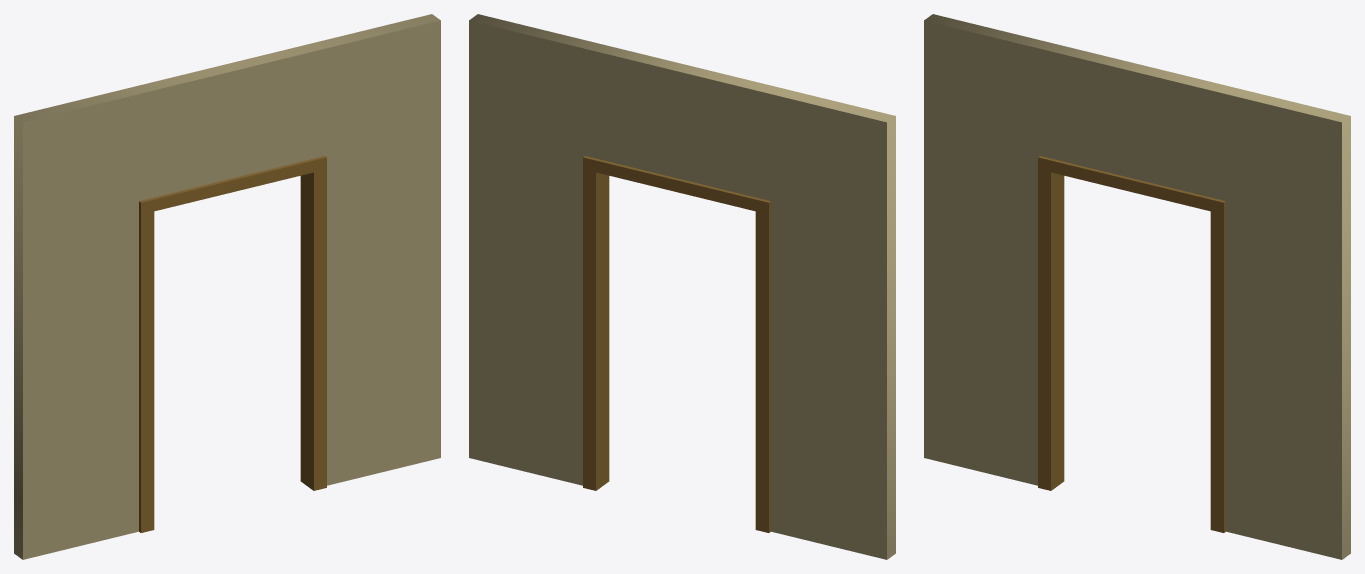
Rendered from Retro Door Wall.fbx.
3 renders of one model, left to right at view 1: azimuth 30°, elevation 25°; view 2: azimuth 150°, elevation 25°; view 3: azimuth 330°, elevation 25°, orthographic.
Parts seen in each view (by area): view 1: retro_wall_door; view 2: retro_wall_door; view 3: retro_wall_door.
Part boxes in pixels (x1,y1,x2,y2): retro_wall_door: [14, 14, 440, 559]; retro_wall_door: [469, 14, 895, 559]; retro_wall_door: [924, 14, 1350, 559].
Bounding box in the file's own units: 300 × 300 × 16.19.
